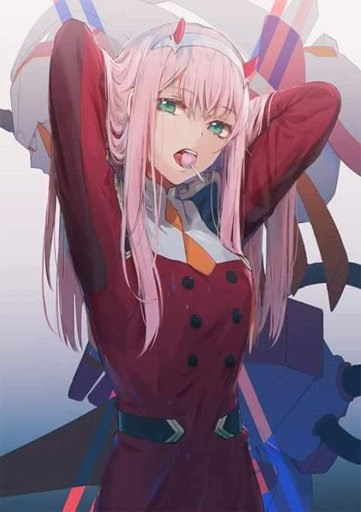zeroTwo: (106, 16, 261, 188)
